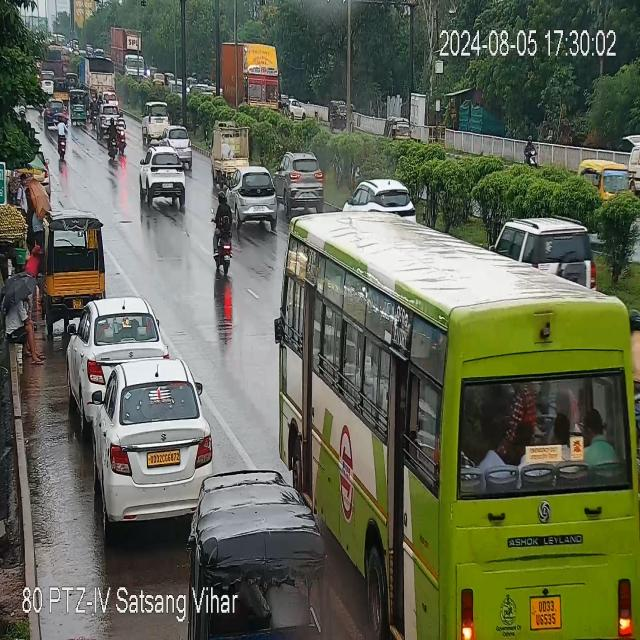2-wheelers: (213, 189, 236, 280), (107, 114, 116, 162), (56, 114, 67, 153), (116, 115, 126, 154)
auto: (330, 98, 348, 128), (384, 118, 409, 138)
bus: (284, 208, 635, 640), (579, 160, 632, 198)
car: (79, 345, 216, 526), (66, 297, 168, 429), (512, 214, 600, 291), (224, 166, 278, 231), (140, 140, 189, 211), (276, 150, 324, 218), (345, 177, 414, 218), (142, 102, 173, 144), (162, 126, 192, 151), (45, 104, 69, 128)
pedestrian: (0, 267, 42, 370), (11, 160, 38, 252), (523, 140, 538, 168)
truck: (46, 209, 106, 306), (220, 44, 280, 111), (210, 126, 252, 181), (110, 25, 146, 71)
